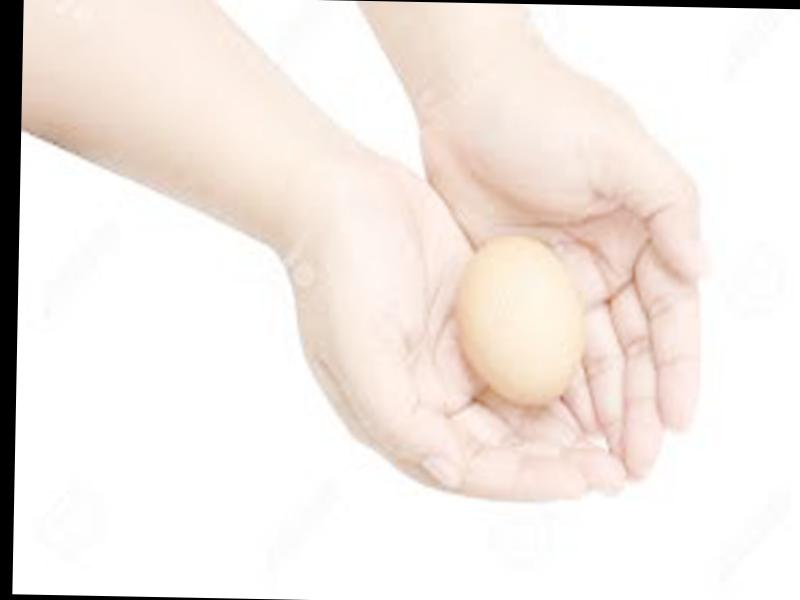Eggs: (454, 238, 583, 401)
